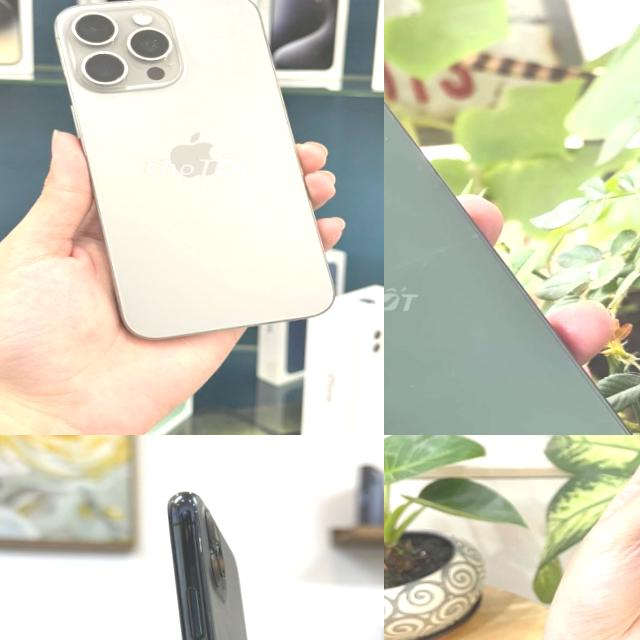scratch: (384, 221, 565, 424)
